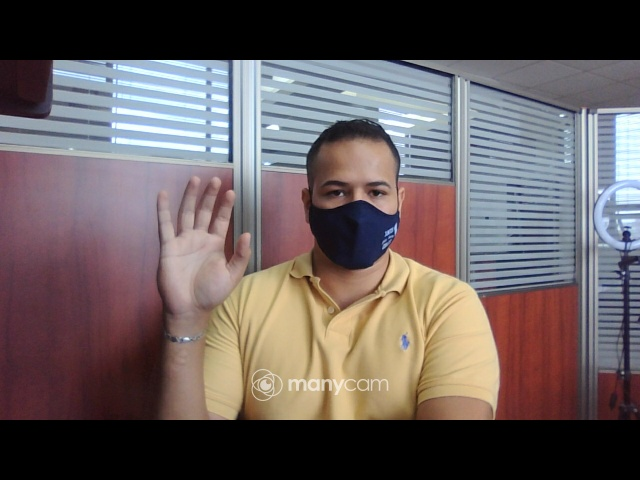Hello: (152, 173, 254, 328)
